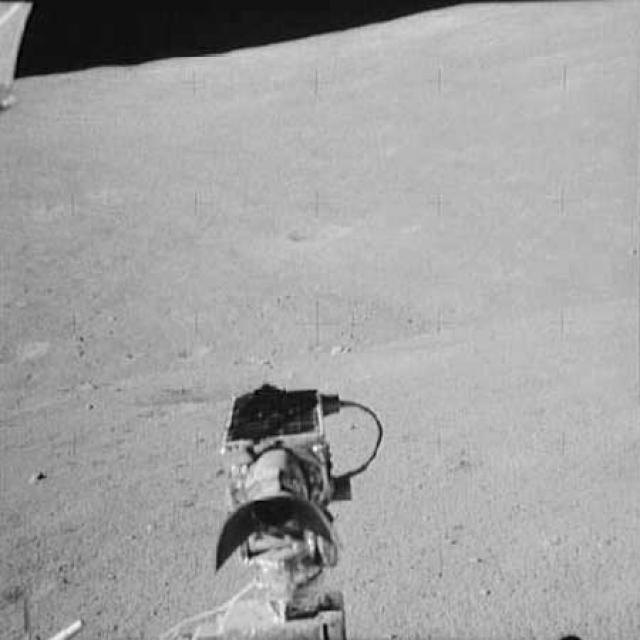artifact: (157, 376, 418, 640)
rock: (530, 623, 584, 639), (23, 466, 48, 484)
